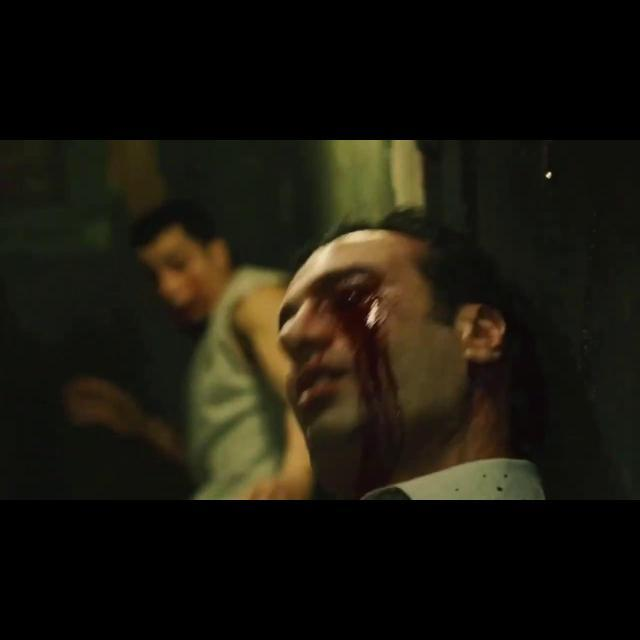blood: (325, 270, 405, 495)
